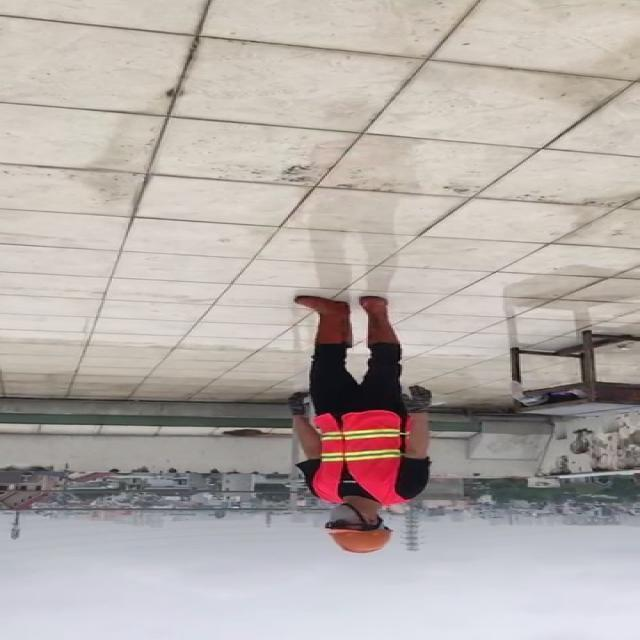Boots: (295, 297, 352, 345), (357, 296, 400, 345)
Gloves: (400, 383, 436, 412), (284, 388, 312, 420)
Helmet: (328, 526, 393, 556)
Vest: (311, 413, 407, 505)
